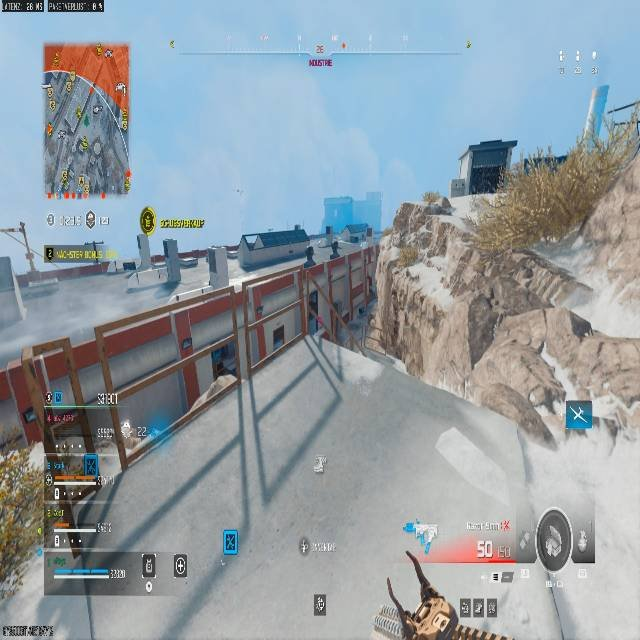player: (330, 238, 341, 258)
